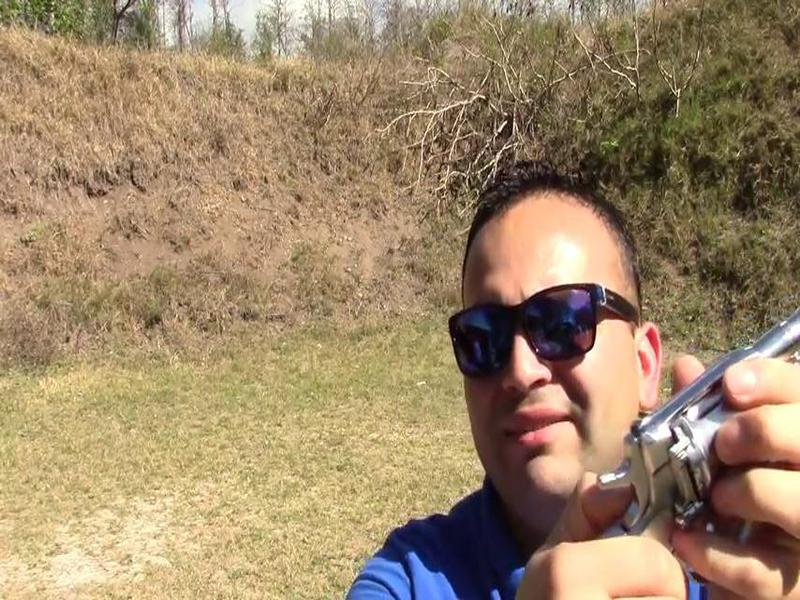Revolver: (546, 291, 800, 575)
